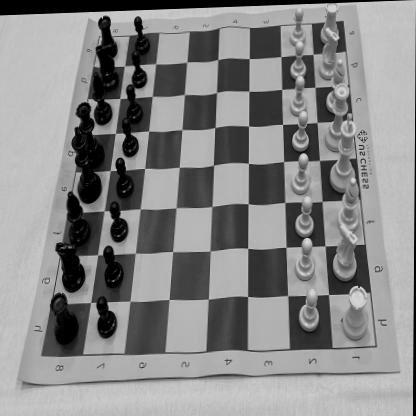black-bishop: (66, 186, 94, 242), (94, 68, 112, 122)
black-king: (70, 123, 101, 200)
black-knight: (55, 237, 86, 291), (95, 36, 118, 88)
black-pawn: (102, 242, 126, 286), (96, 290, 118, 338), (109, 198, 130, 240), (122, 115, 140, 157), (116, 154, 134, 196), (133, 12, 150, 53), (130, 47, 147, 87), (126, 82, 143, 121)
black-queen: (76, 98, 104, 164)
black-rook: (50, 289, 80, 343), (97, 12, 118, 58)
white-bishop: (338, 176, 362, 232), (326, 56, 346, 113)
white-king: (330, 113, 358, 194)
white-knight: (332, 223, 360, 282), (318, 26, 342, 80)
white-pawn: (298, 288, 322, 332), (295, 237, 316, 281), (296, 194, 316, 237), (291, 151, 310, 193), (292, 110, 311, 150), (289, 6, 307, 46), (291, 76, 308, 116), (290, 41, 307, 79)
white-queen: (326, 82, 352, 153)
white-rook: (342, 283, 370, 340), (320, 2, 339, 45)
